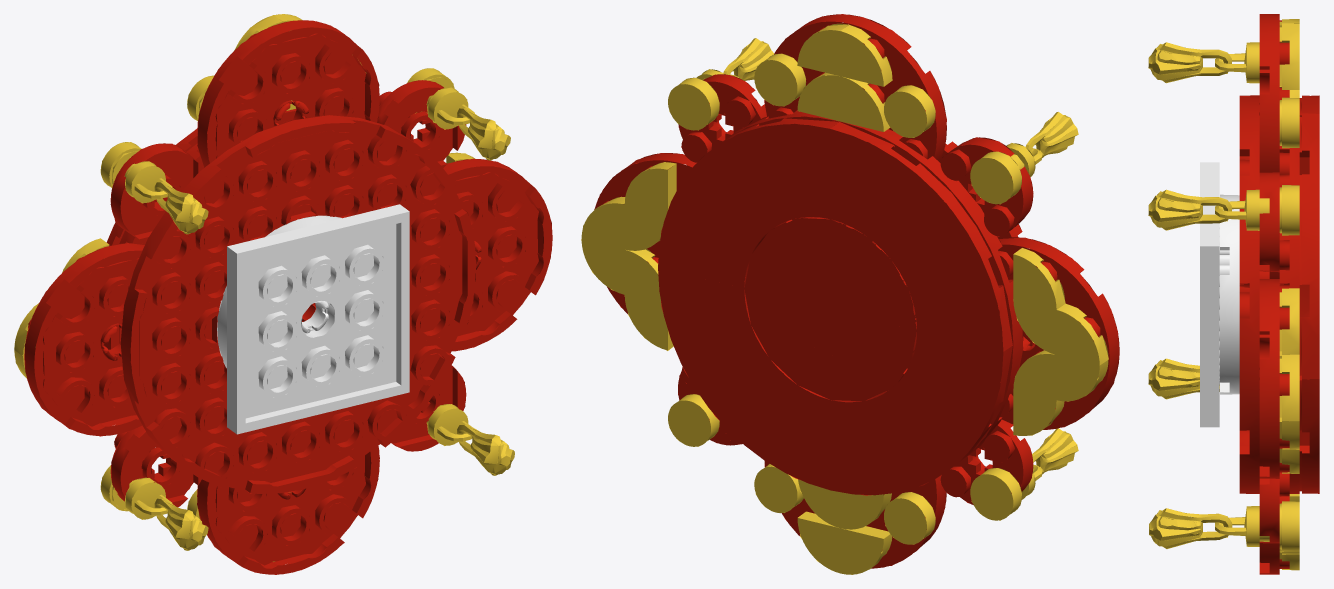
The picture shows the model from 3 angles, left to right: view 1: azimuth 30°, elevation 25°; view 2: azimuth 150°, elevation 25°; view 3: azimuth 270°, elevation 25°; orthographic projection.
Parts seen in each view (by area): view 1: 龙鹤福; view 2: 龙鹤福; view 3: 龙鹤福.
Part boxes in pixels (x1=…): 龙鹤福: x1=14, y1=14, x2=552, y2=574; 龙鹤福: x1=581, y1=14, x2=1119, y2=574; 龙鹤福: x1=1148, y1=14, x2=1319, y2=574.
Size of the model in its own units: 240 by 240 by 68.63.
